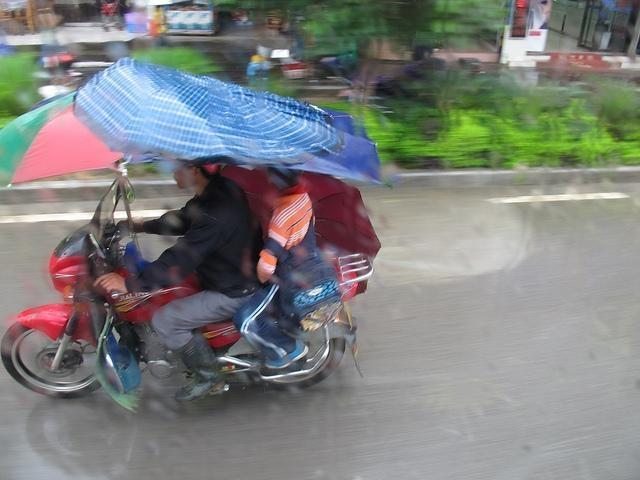motorcycle: (6, 180, 374, 392)
